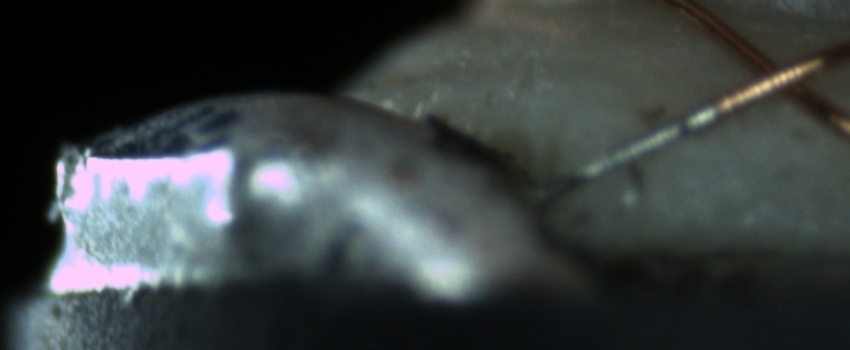CL: (728, 40, 825, 109)
TS: (529, 98, 722, 207)
